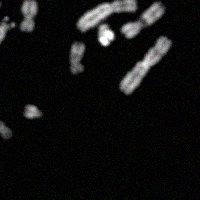chromosome: (119, 35, 172, 95), (76, 0, 137, 32), (122, 0, 165, 40), (0, 15, 16, 54), (68, 43, 85, 75), (21, 0, 37, 33), (22, 103, 43, 122), (97, 25, 114, 47), (0, 117, 13, 139), (0, 0, 1, 19)
